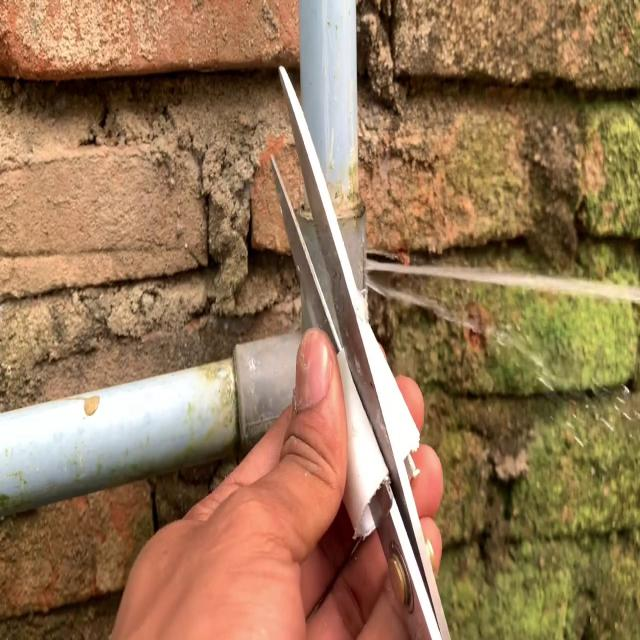leak: (364, 273, 561, 376), (364, 260, 640, 303)
